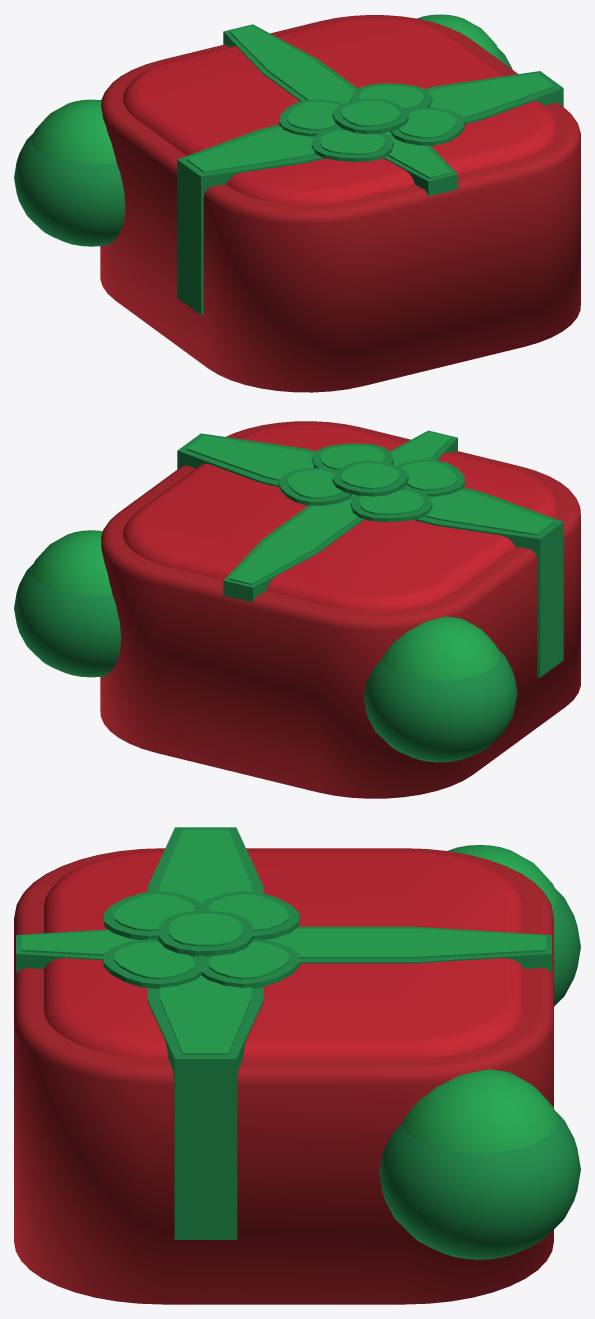
The model's file is body_presente.fbx.
3 renders of one model, top to bottom at view 1: azimuth 30°, elevation 25°; view 2: azimuth 150°, elevation 25°; view 3: azimuth 270°, elevation 25°, orthographic. The views are drawn at different scales.
Visible parts, largest first — view 1: body_presente_corpo, body_presente_mao_esq, body_presente_mao; view 2: body_presente_corpo, body_presente_mao_esq, body_presente_mao; view 3: body_presente_corpo, body_presente_mao, body_presente_mao_esq.
Part boxes in pixels (left/top/right/bottom): body_presente_corpo: left=100, top=15, right=580, bottom=392; body_presente_mao_esq: left=14, top=99, right=125, bottom=246; body_presente_mao: left=417, top=14, right=512, bottom=69; body_presente_corpo: left=100, top=421, right=580, bottom=798; body_presente_mao_esq: left=364, top=616, right=517, bottom=762; body_presente_mao: left=14, top=530, right=121, bottom=677; body_presente_corpo: left=14, top=827, right=553, bottom=1304; body_presente_mao: left=379, top=1069, right=580, bottom=1259; body_presente_mao_esq: left=448, top=845, right=580, bottom=1006.
Bounding box in the file's own units: 5.4 × 2.14 × 4.2.
1 material, 1 textured.
